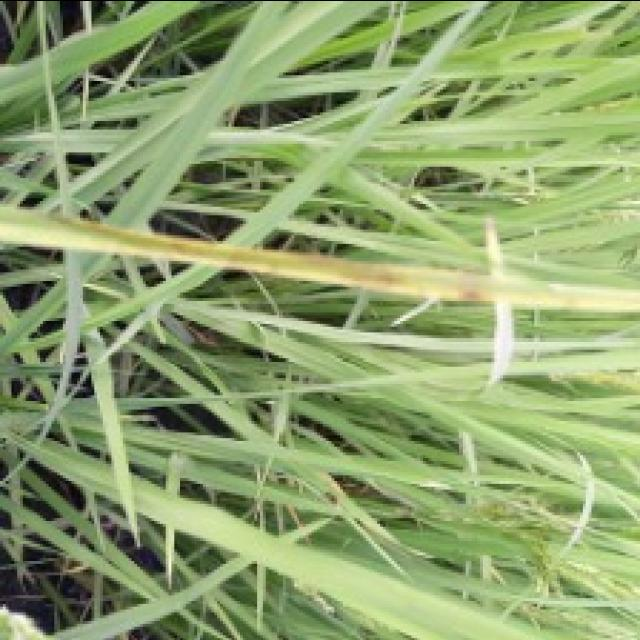Unhealthy: (0, 199, 640, 315)
